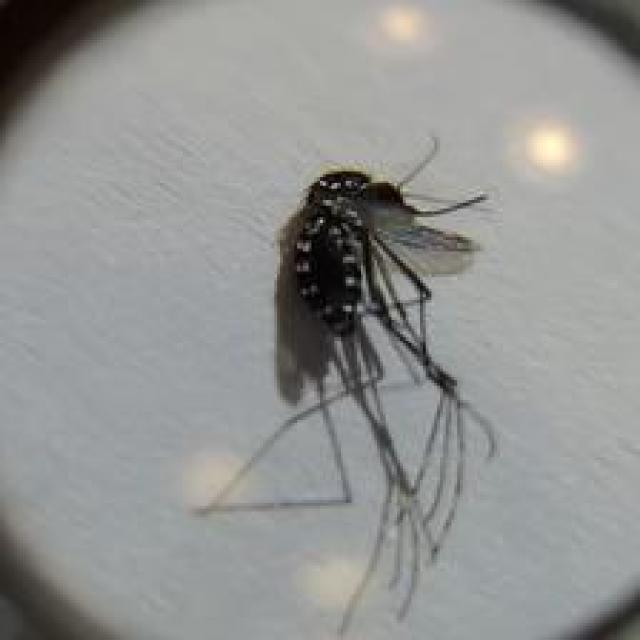Aedes albopictus: (191, 132, 500, 637)
